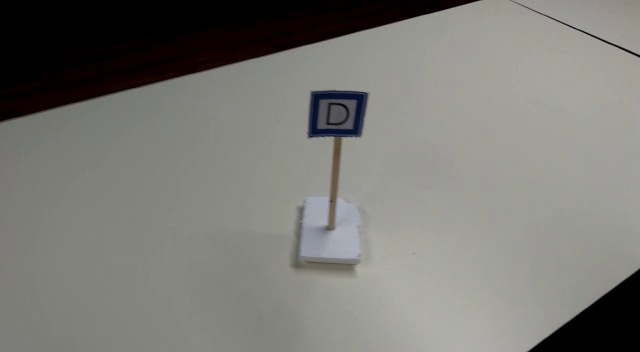durak: (307, 94, 368, 136)
